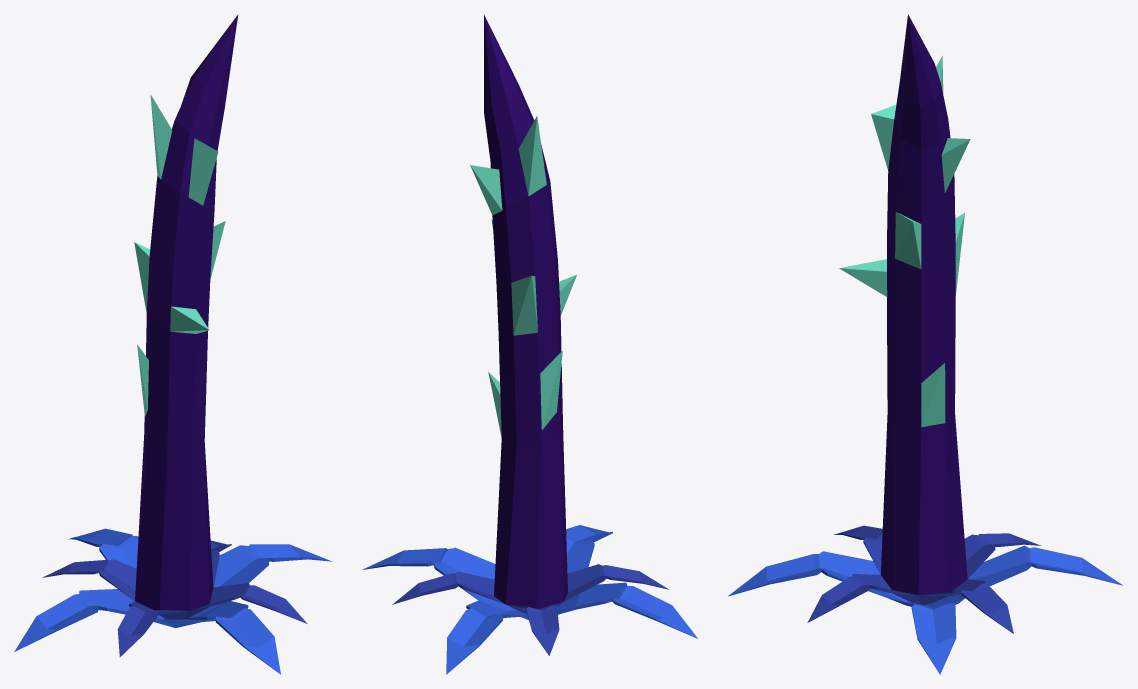
File: Plant spikes.fbx
The picture shows the model from 3 angles, left to right: view 1: azimuth 30°, elevation 25°; view 2: azimuth 150°, elevation 25°; view 3: azimuth 270°, elevation 25°; orthographic projection. The views are drawn at different scales.
Parts seen in each view (by area): view 1: Plant001.004, Plant004; view 2: Plant001.004, Plant004; view 3: Plant001.004, Plant004.
Boxes of the visible parts, x1,y1,x2,y2 form: Plant001.004: (134,14,238,610); Plant004: (14,528,331,674); Plant001.004: (470,14,576,608); Plant004: (362,525,697,674); Plant001.004: (839,14,970,595); Plant004: (728,525,1122,674).
Size of the model in its own units: 49.01 by 85.25 by 49.04.
